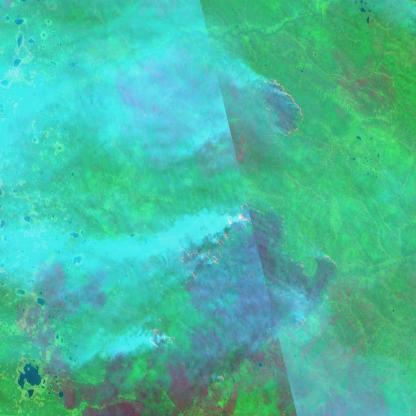fire: (178, 207, 340, 349), (258, 78, 306, 141), (219, 371, 228, 384)
